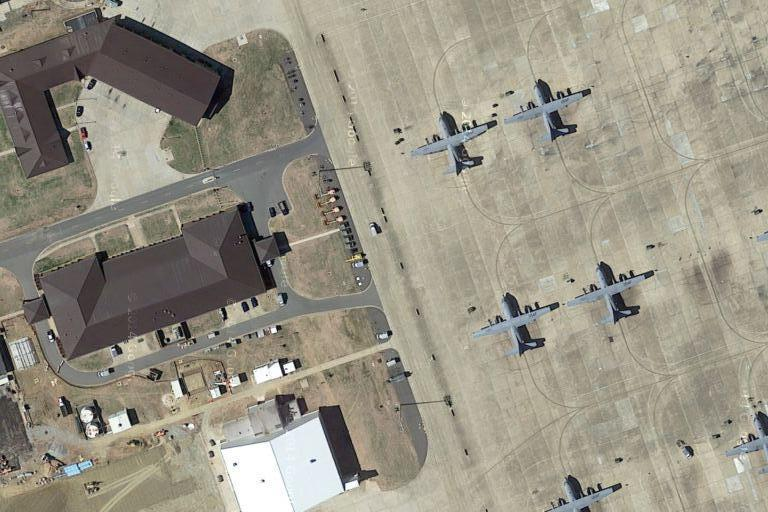C-130: (565, 260, 655, 333), (500, 81, 591, 152), (472, 287, 557, 361), (410, 105, 494, 178)
